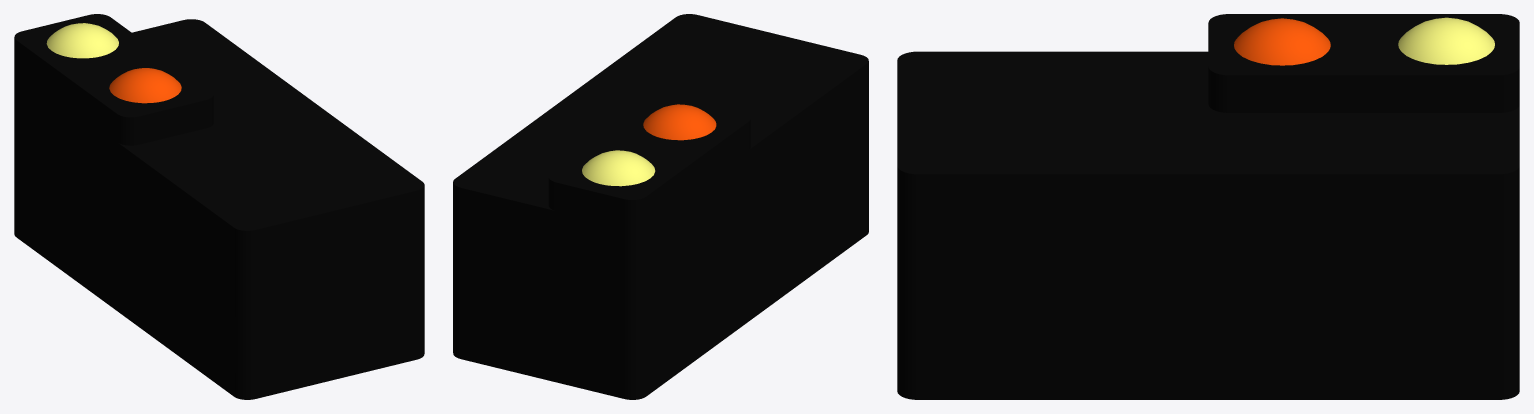
File: SensorCamera.gltf
3 renders of one model, left to right at view 1: azimuth 30°, elevation 25°; view 2: azimuth 150°, elevation 25°; view 3: azimuth 270°, elevation 25°, orthographic. The views are drawn at different scales.
Parts seen in each view (by area): view 1: CameraBody, CameraLens1, CameraLens2; view 2: CameraBody, CameraLens2, CameraLens1; view 3: CameraBody, CameraLens2, CameraLens1.
Boxes of the visible parts, <box> form: CameraBody: <box>14,14,424,399</box>; CameraLens1: <box>46,23,118,58</box>; CameraLens2: <box>109,68,181,103</box>; CameraBody: <box>453,14,868,399</box>; CameraLens2: <box>643,104,716,140</box>; CameraLens1: <box>582,150,655,186</box>; CameraBody: <box>897,14,1519,399</box>; CameraLens2: <box>1234,18,1330,65</box>; CameraLens1: <box>1398,17,1494,64</box>.
Size of the model in its own units: 0.035 by 0.0378 by 0.075.
